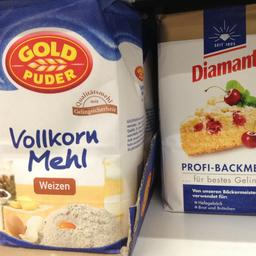flour: (0, 0, 147, 251), (158, 6, 255, 212)
